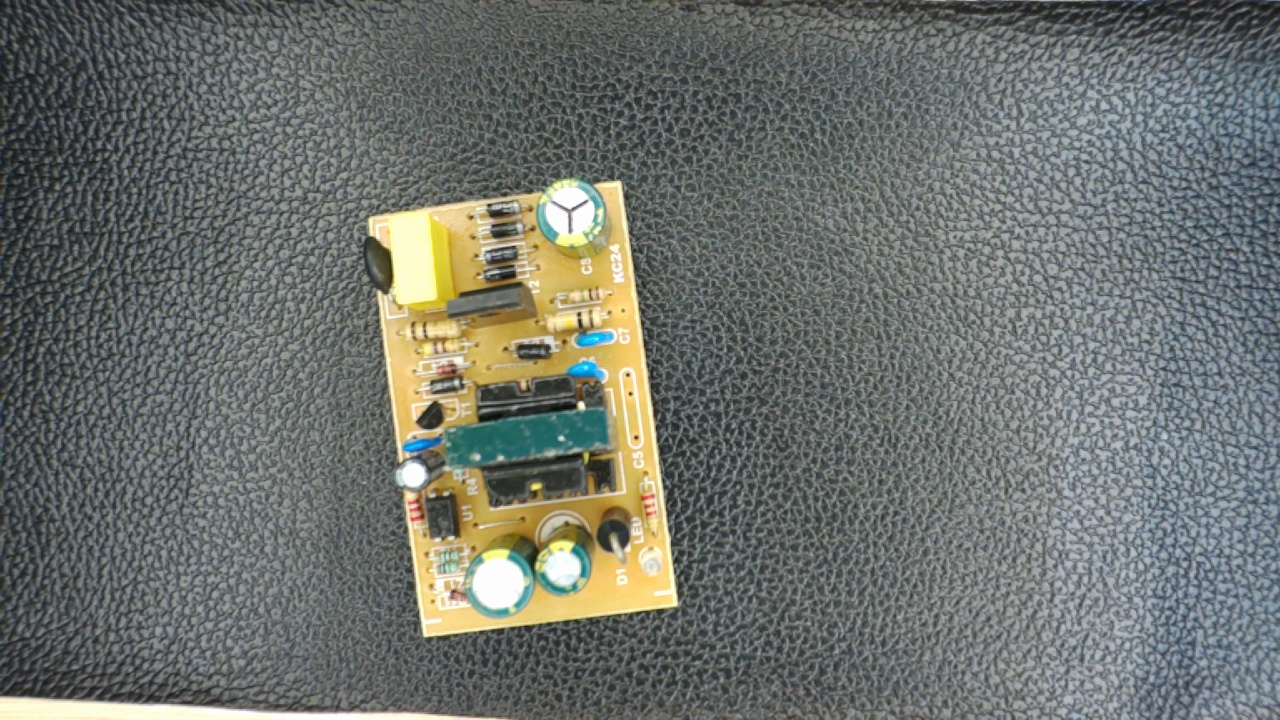fuse: (360, 228, 396, 309)
hv_capacitor: (531, 174, 612, 260)
optocoupler: (420, 486, 464, 546)
